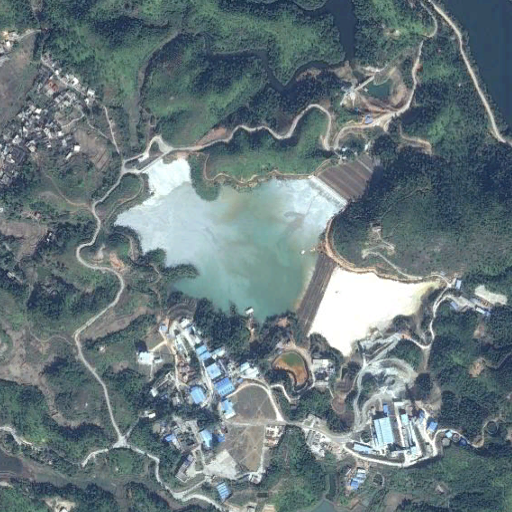tp: (108, 151, 441, 360)
